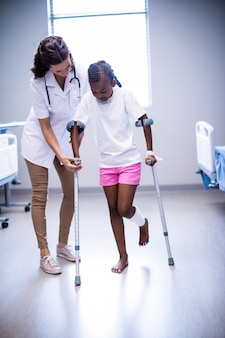crutches: (69, 61, 174, 286)
